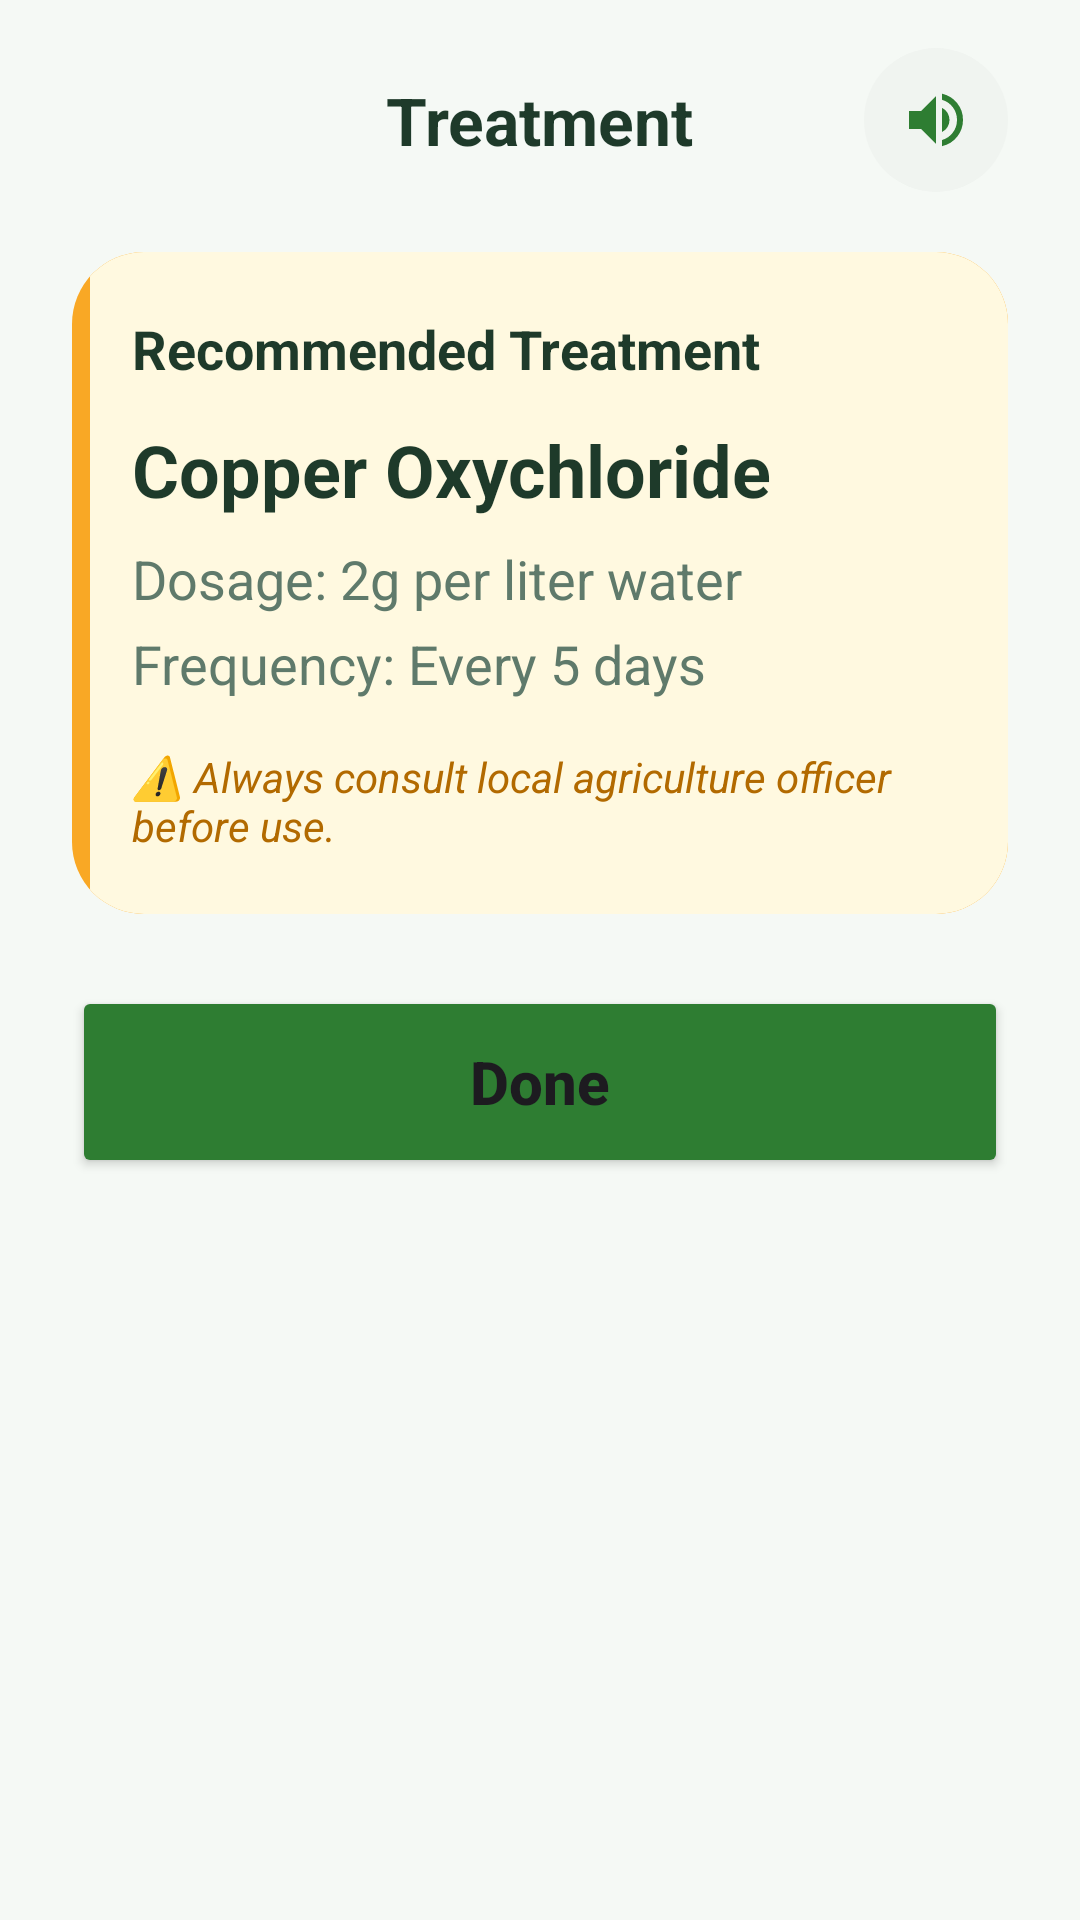

Icons on this 1080x1920 Android screen, each with its box as [left=x1, top=y1, right=x2, bottom=y2]:
Listen: [left=909, top=93, right=963, bottom=146]
